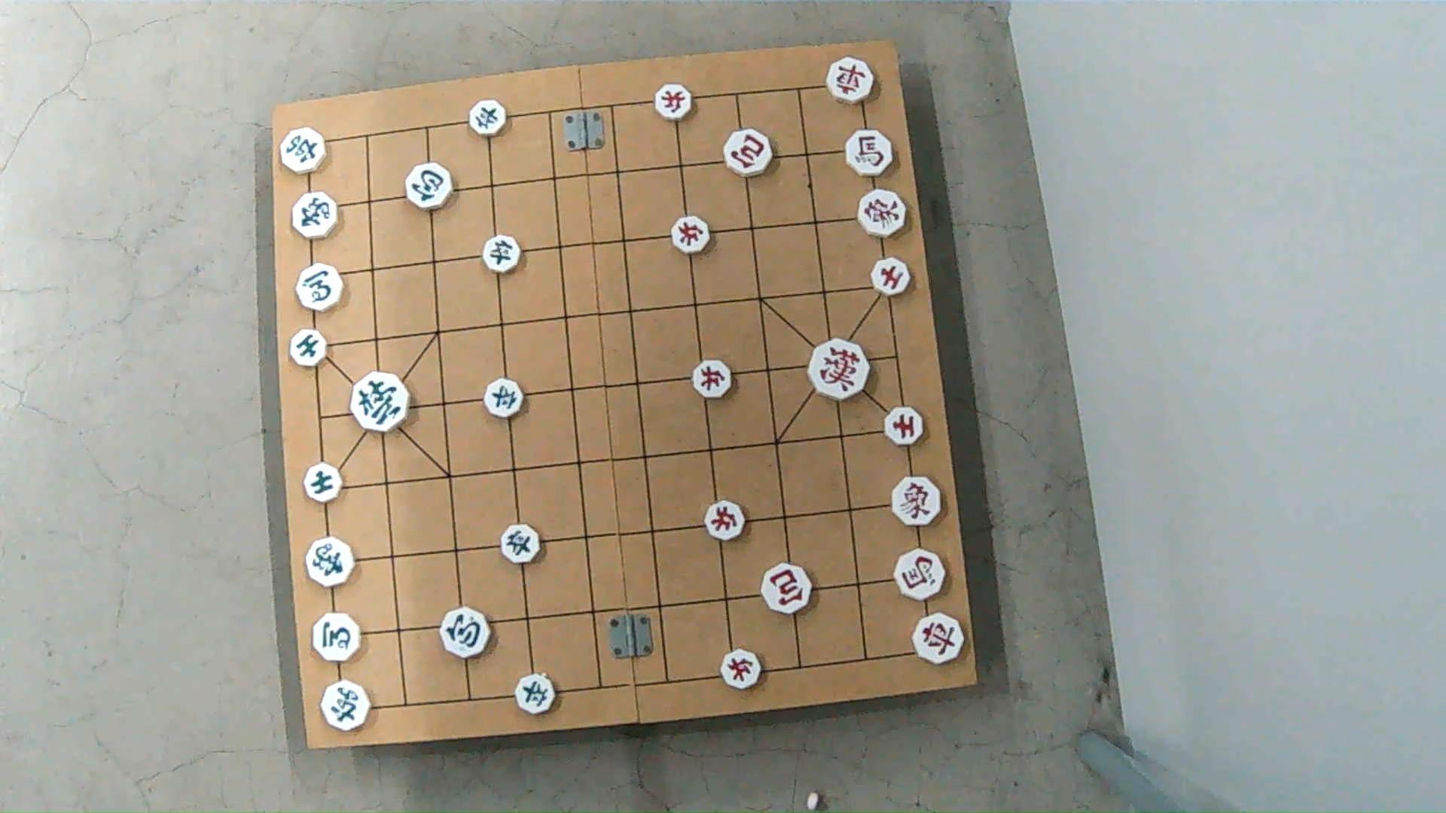cha_green: (319, 684, 373, 731), (279, 129, 330, 172)
cha_red: (910, 615, 966, 662), (825, 56, 877, 103)
jol_green: (516, 674, 560, 712), (496, 527, 540, 563), (468, 102, 510, 137), (484, 380, 526, 414), (481, 236, 523, 269)
jol_red: (718, 649, 762, 688), (703, 504, 746, 540), (691, 362, 735, 396), (668, 218, 712, 251), (654, 87, 697, 119)
ma_green: (309, 614, 361, 659), (294, 266, 346, 310)
ma_red: (892, 553, 947, 599), (847, 131, 898, 174)
po_green: (440, 610, 493, 655), (402, 166, 451, 209)
po_red: (761, 567, 813, 614), (725, 133, 776, 175)
sa_green: (302, 464, 343, 500), (289, 331, 329, 364)
sa_red: (868, 259, 914, 294), (882, 407, 926, 443)
sang_green: (307, 539, 360, 588), (291, 189, 338, 241)
sang_red: (858, 188, 911, 241), (889, 480, 944, 526)
wang_green: (352, 376, 413, 431)
wang_red: (807, 342, 871, 397)
